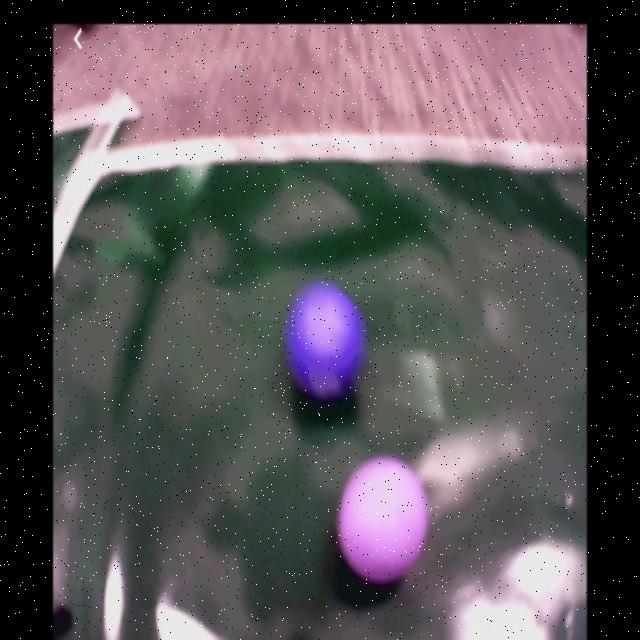ball: (339, 455, 433, 591), (285, 285, 365, 401)
